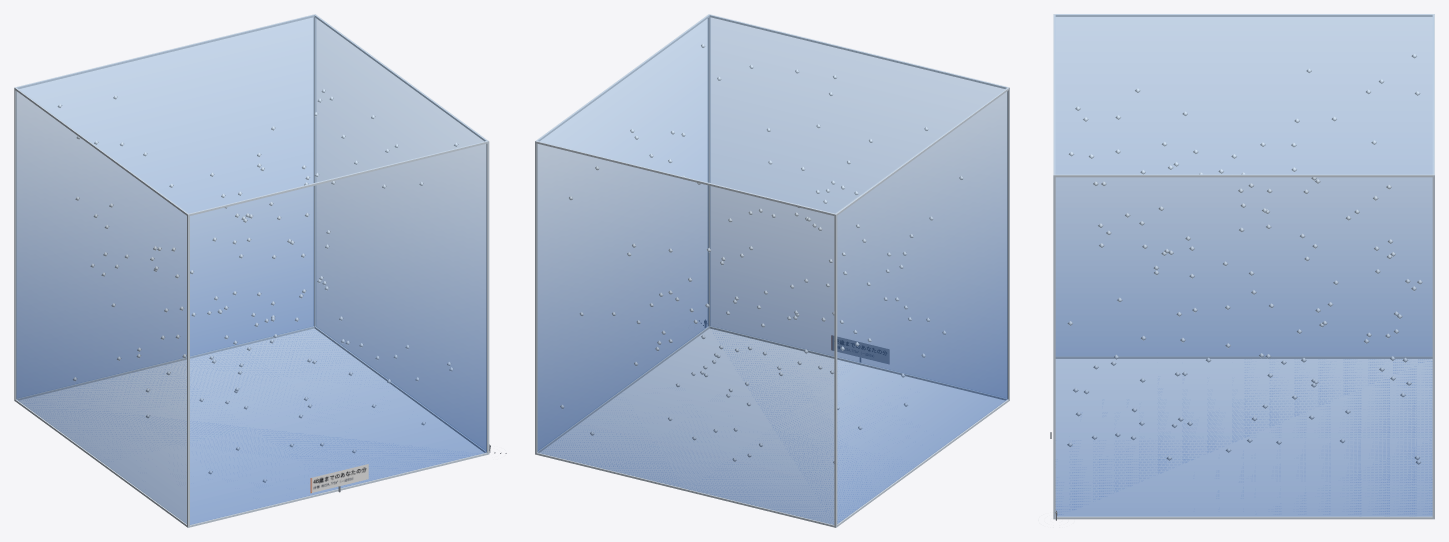
Rendered from cube_life_48.glb.
3 views of the same model, side by side, from view 1: azimuth 30°, elevation 25°; view 2: azimuth 150°, elevation 25°; view 3: azimuth 270°, elevation 25° (orthographic). The views are drawn at different scales.
Parts seen in each view (by area): view 1: co2, edge, dots, label; view 2: co2, edge, dots, label; view 3: co2, edge, dots.
Boxes of the visible parts, x1,y1,x2,y2 form: co2: [16, 15, 486, 524]; edge: [14, 14, 489, 527]; dots: [57, 89, 458, 482]; label: [310, 464, 368, 492]; co2: [537, 15, 1007, 524]; edge: [535, 14, 1009, 527]; dots: [560, 44, 963, 463]; label: [831, 335, 889, 363]; co2: [1054, 14, 1433, 516]; edge: [1053, 14, 1434, 519]; dots: [1067, 53, 1422, 464].
Bounding box in the file's own units: 65.44 × 61.69 × 64.54.
Materials: 8 (3 with a texture image).
